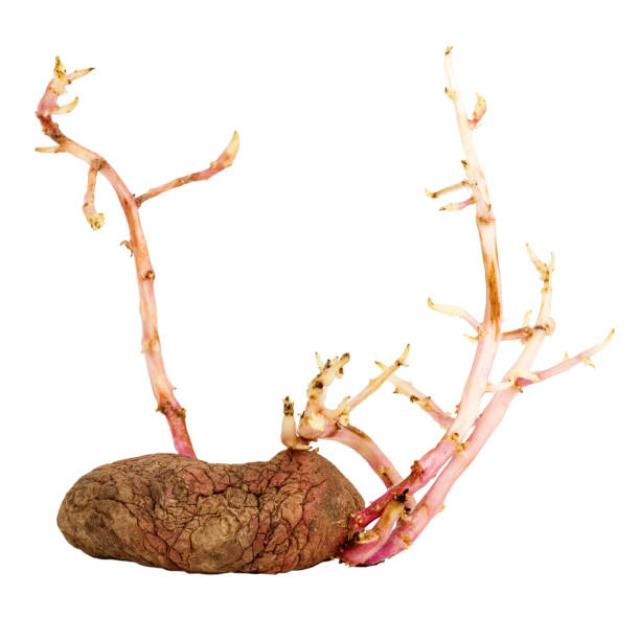Sprouted potato: (15, 41, 581, 570)
